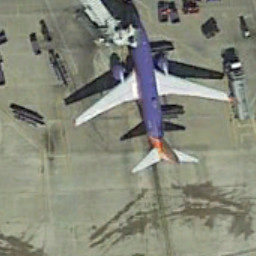Airplane: (59, 1, 239, 186)
